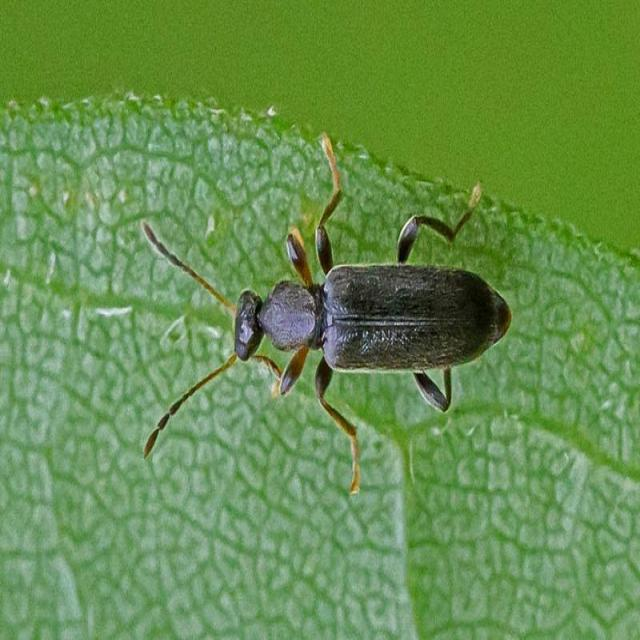BlisterBeetle-Adult-: (111, 125, 526, 492)
